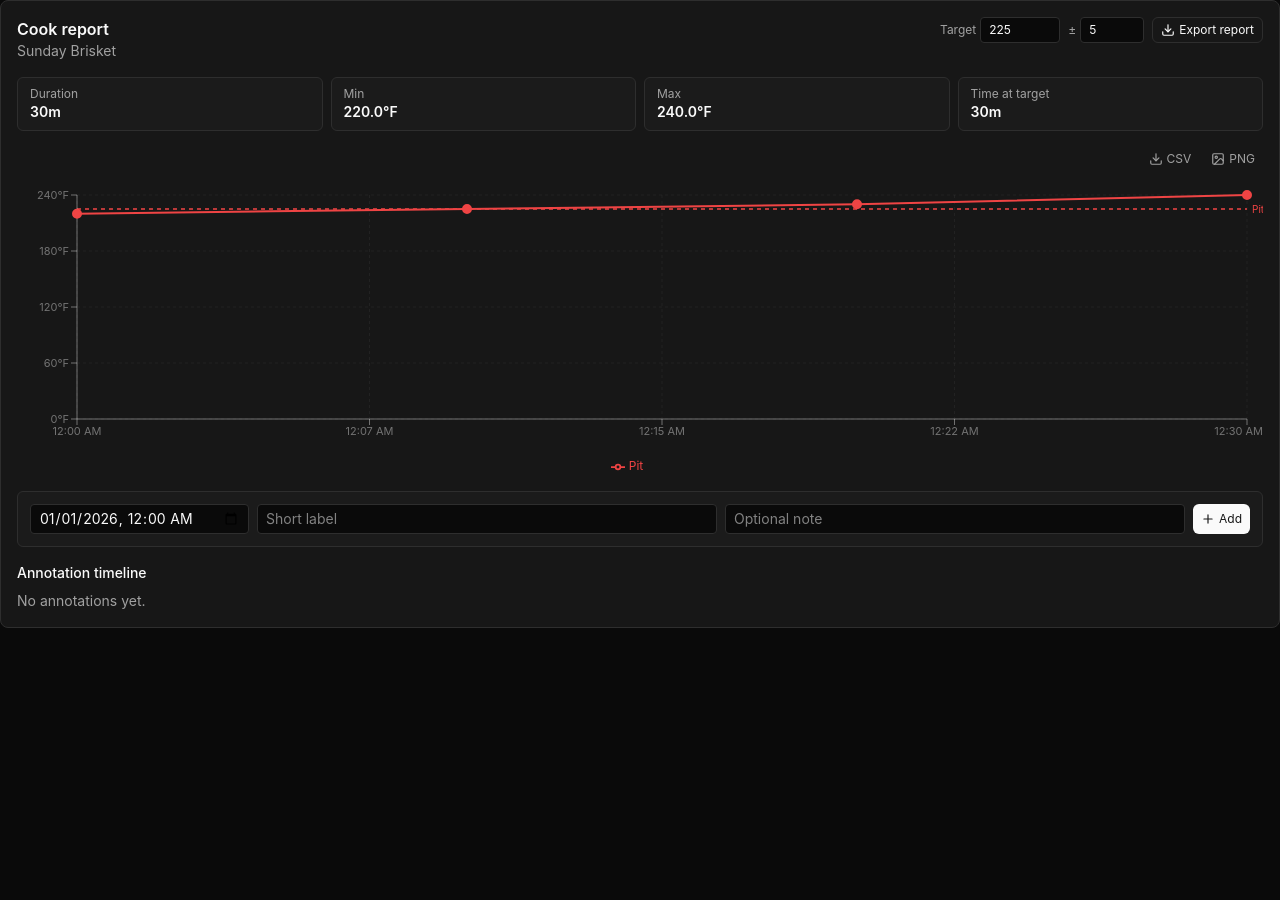
Test: CookReport › lets users add, edit, persist, and remove annotations
The width and height of the screenshot is (1280, 900).
In the field named "Annotation label": (487,519) [257,504,717,534], type "Spritz"
In the field named "Annotation note": (955,519) [725,504,1185,534], type "Apple juice"
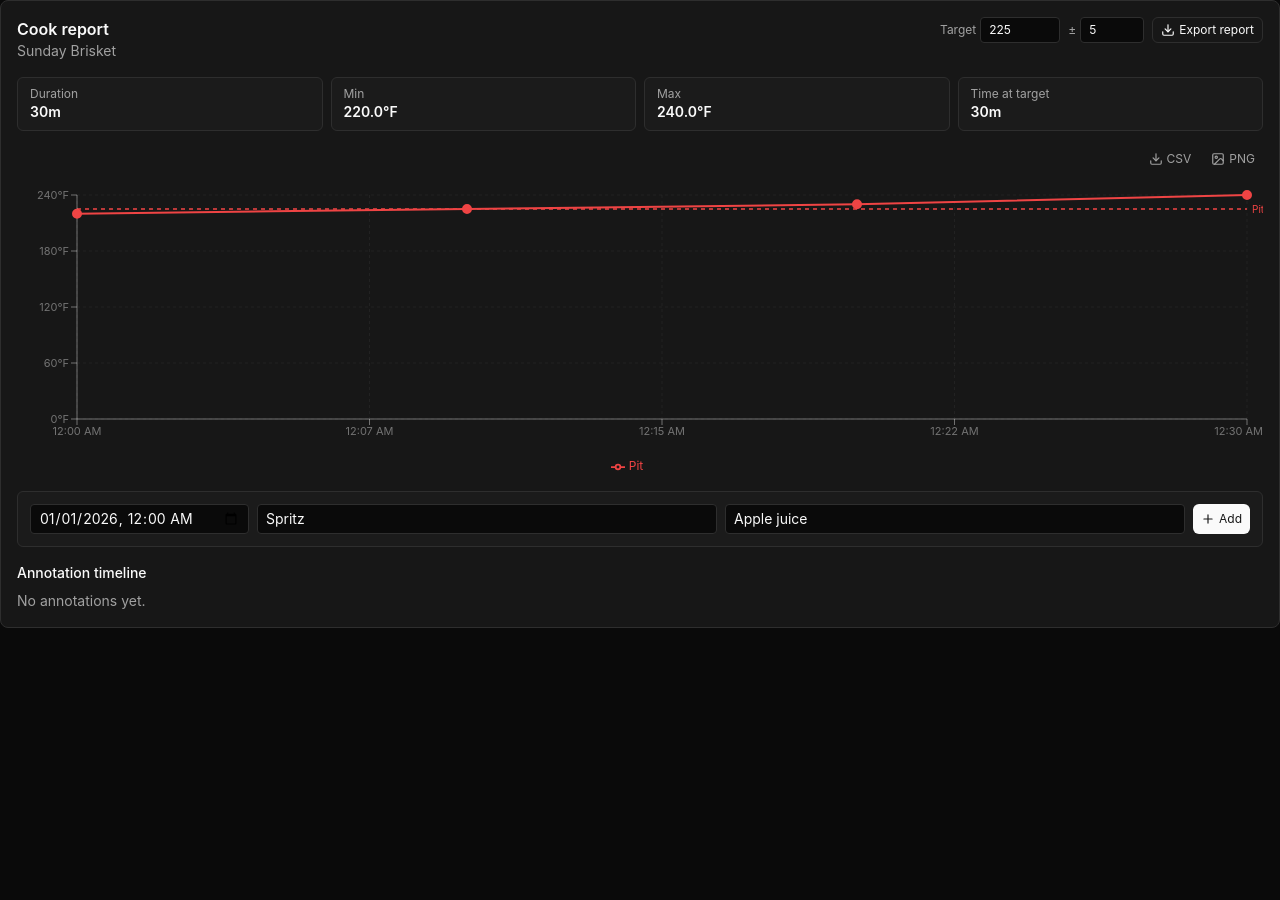
Click the button "Add": (1222,519) [1193,504,1250,534]
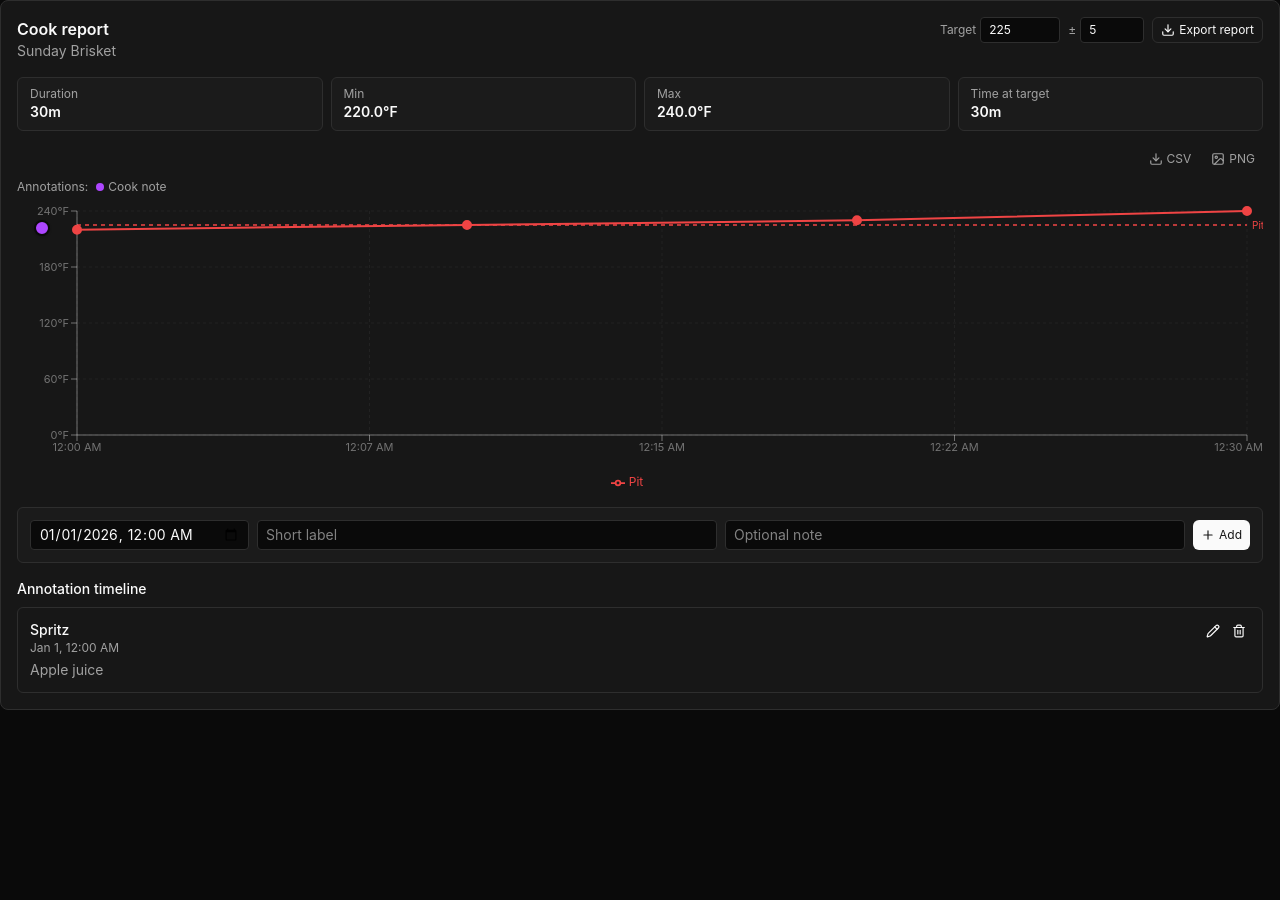
Now the text "Spritz" is shown, box [30,621,69,638]
Click the button named "Edit Spritz": (1213,631) [1202,620,1224,642]
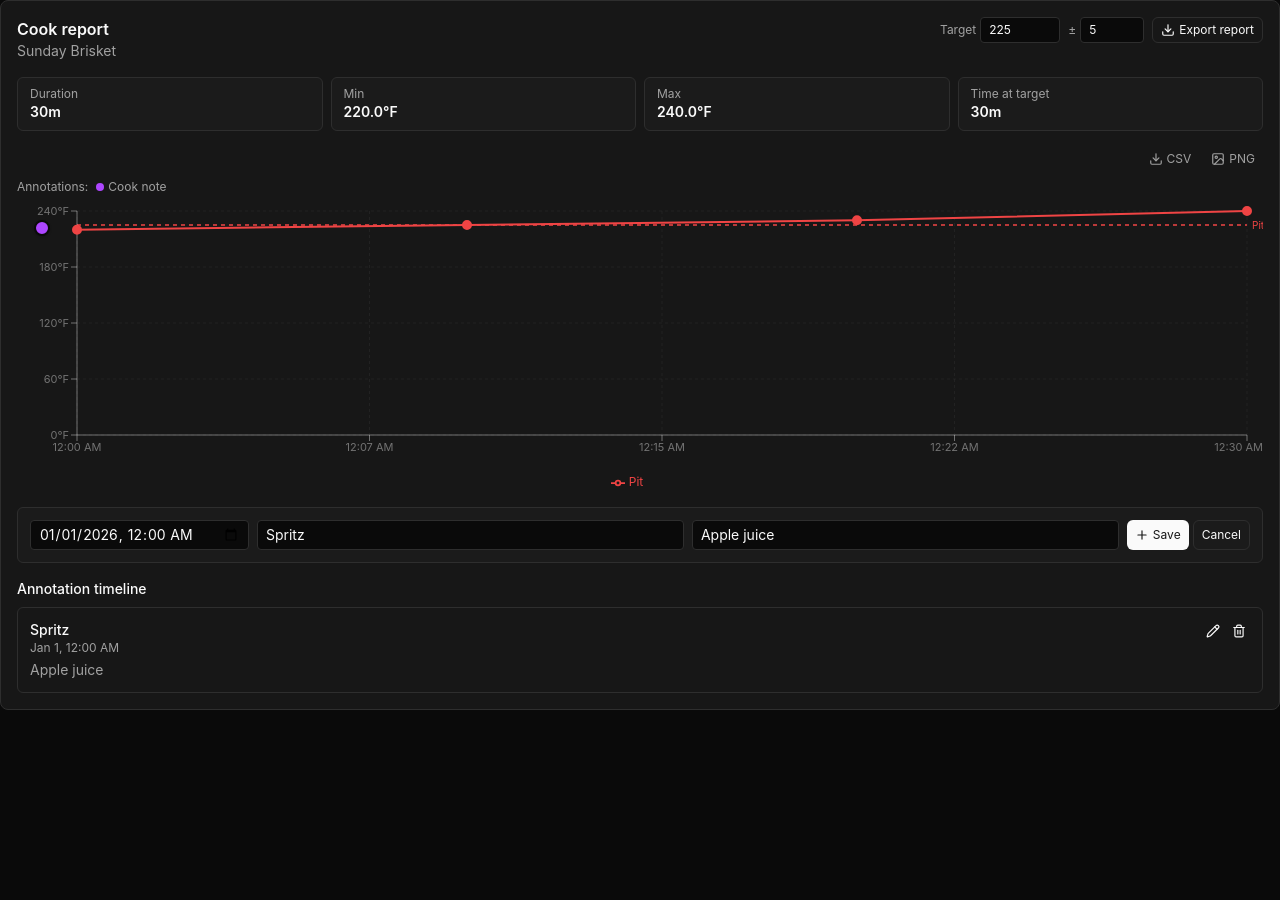
Replace the text in the field named "Annotation label" with "Wrapped": (470,535) [257,520,684,550]
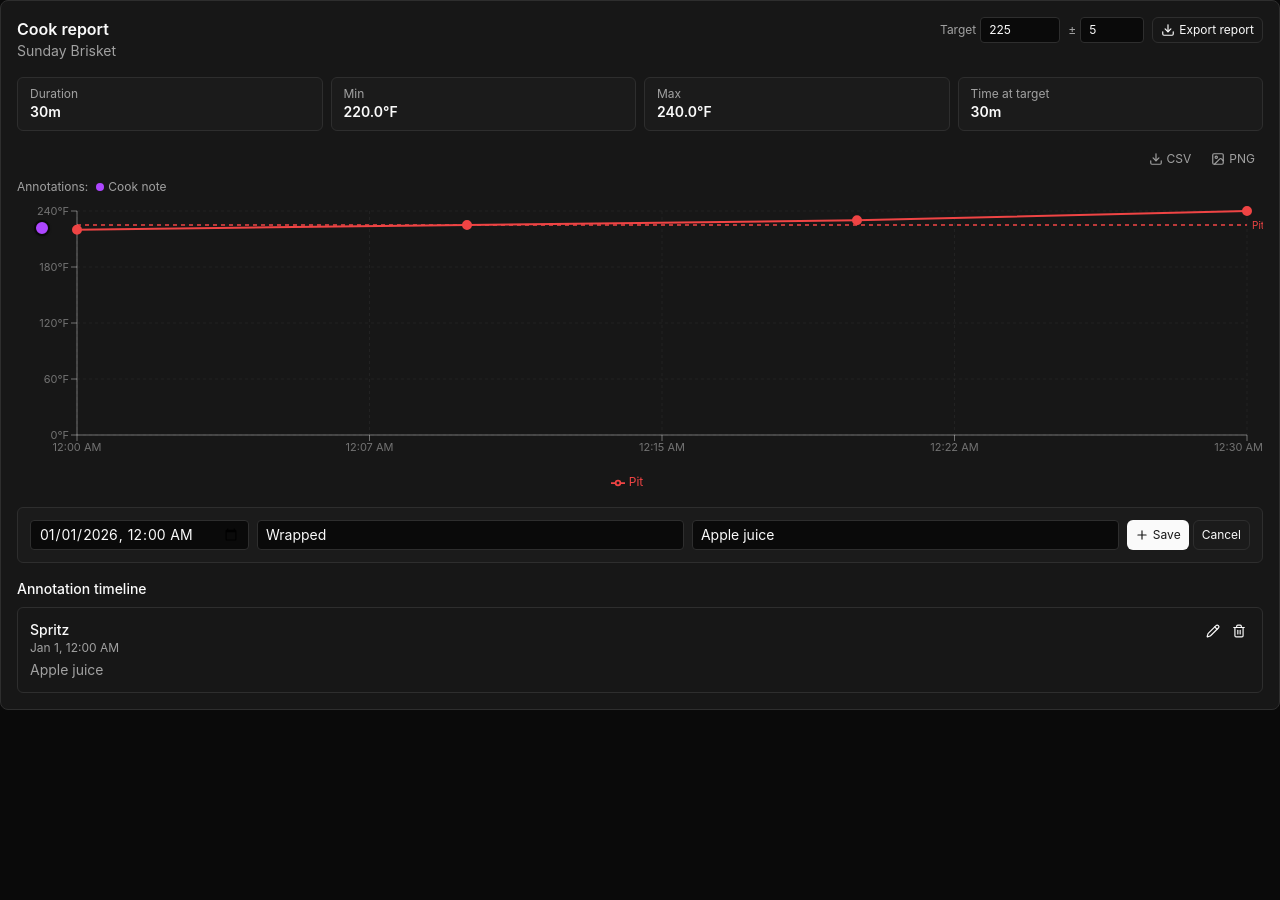
Click the button "Save": (1158,535) [1127,520,1189,550]
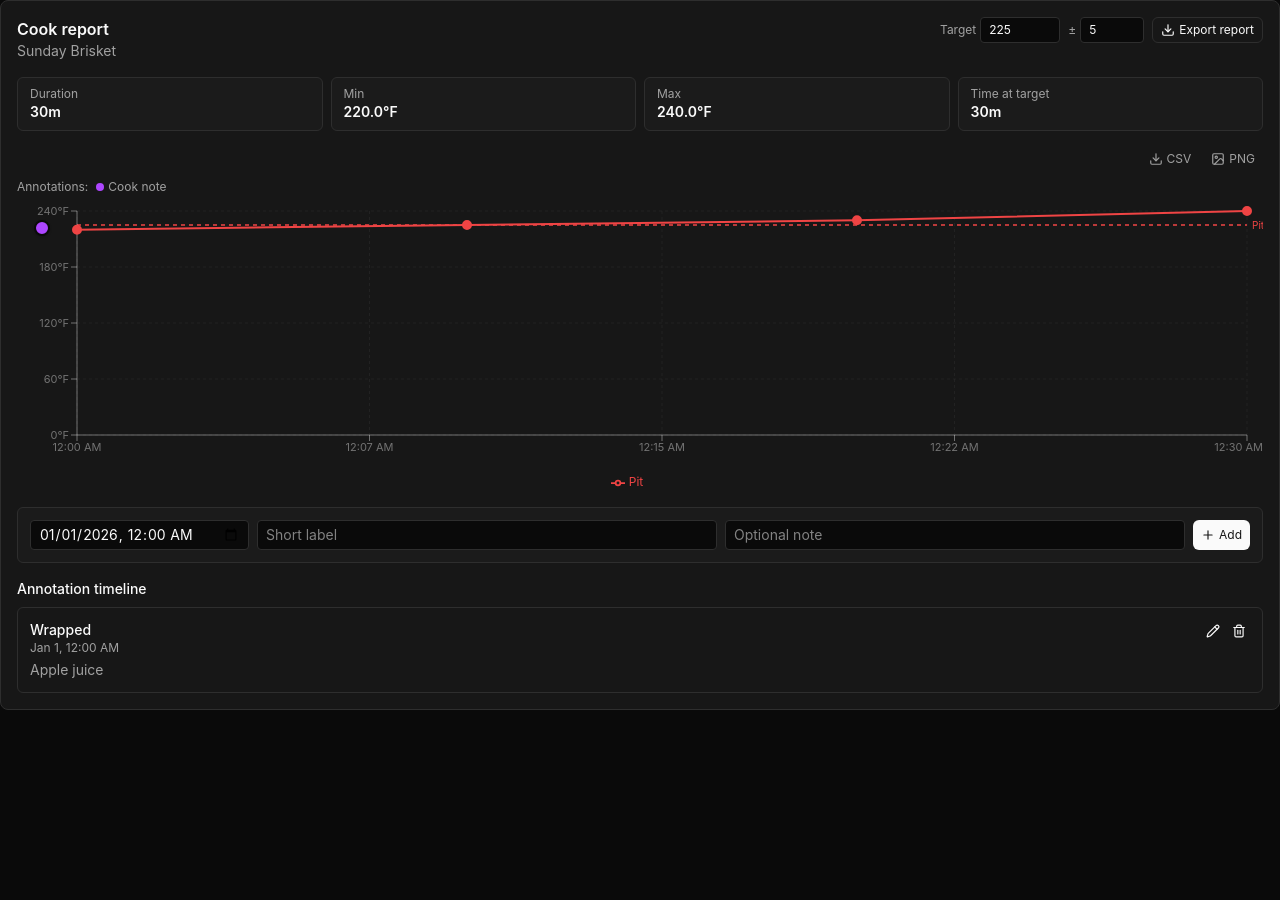
Now the text "Wrapped" is shown, box [30,621,91,638]
Now the text "Spritz" is gone
Click the button named "Remove Wrapped": (1239,631) [1228,620,1250,642]
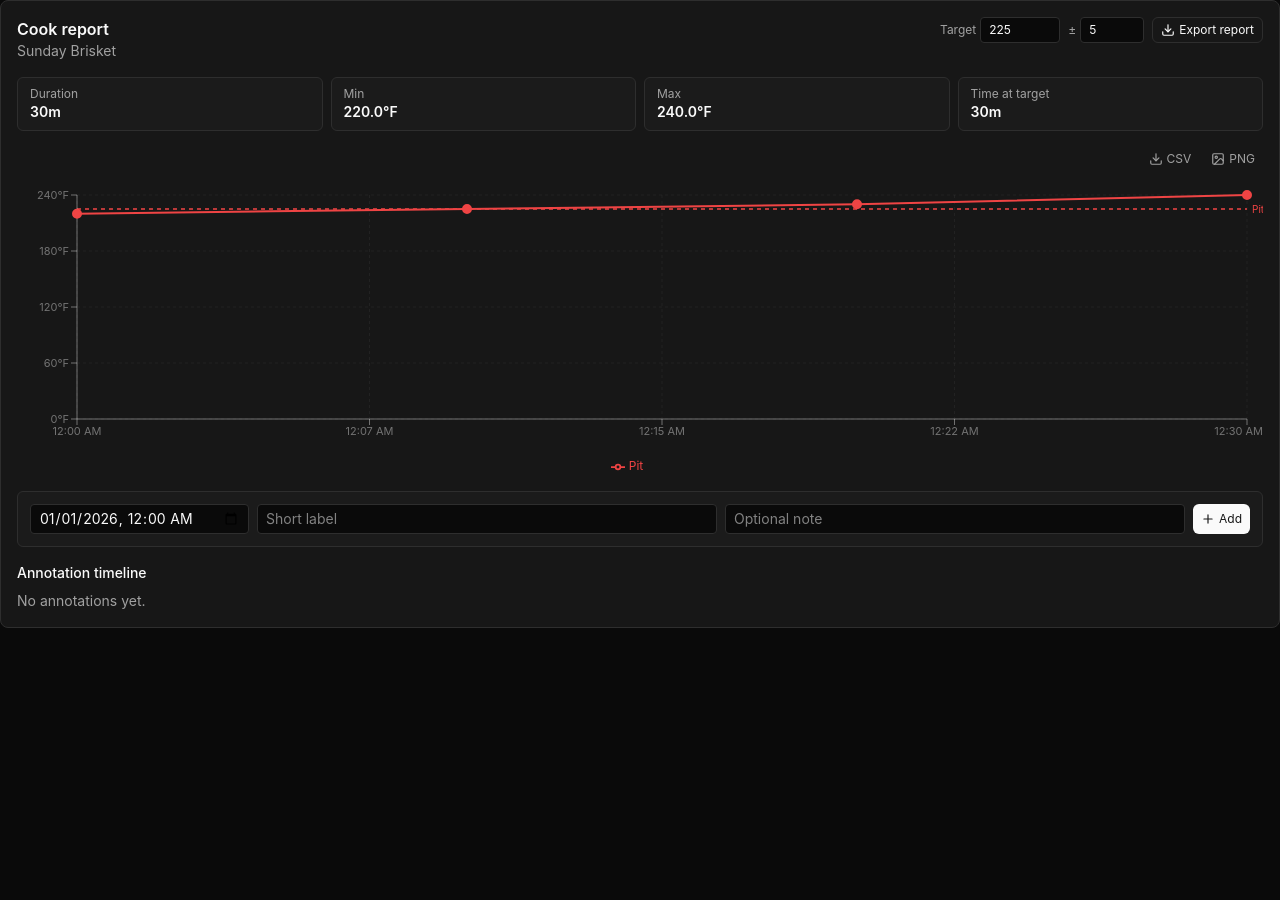
Now the text "Wrapped" is gone
Now the text "No annotations yet." is shown, box [17,592,146,609]
